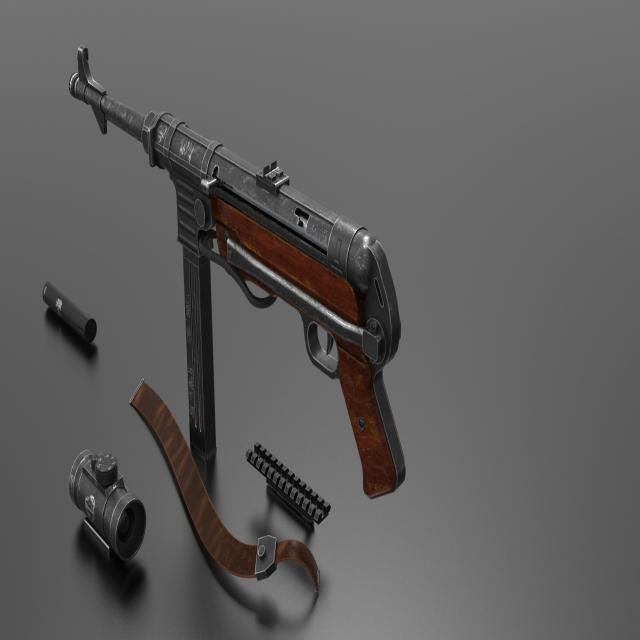SMG: (67, 47, 406, 501)
